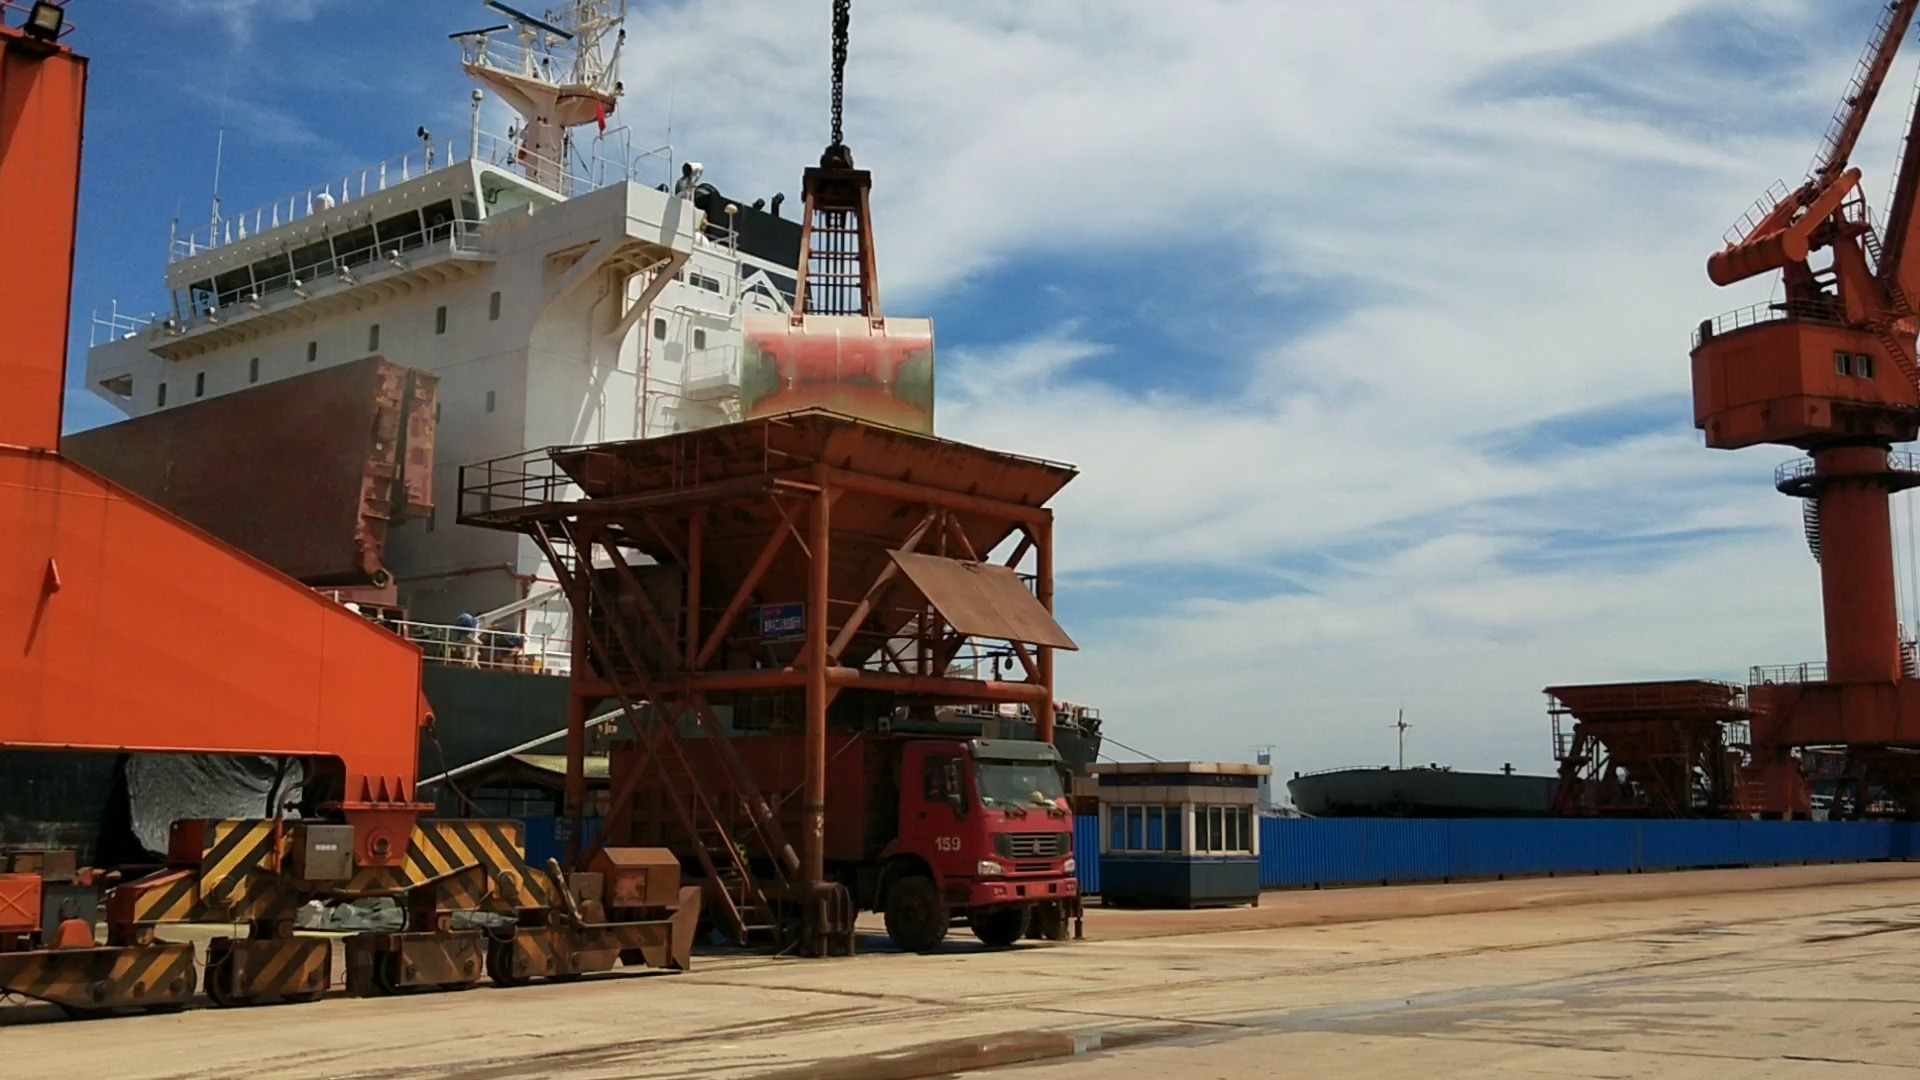grab: (723, 131, 945, 444)
truck: (823, 713, 1097, 953)
